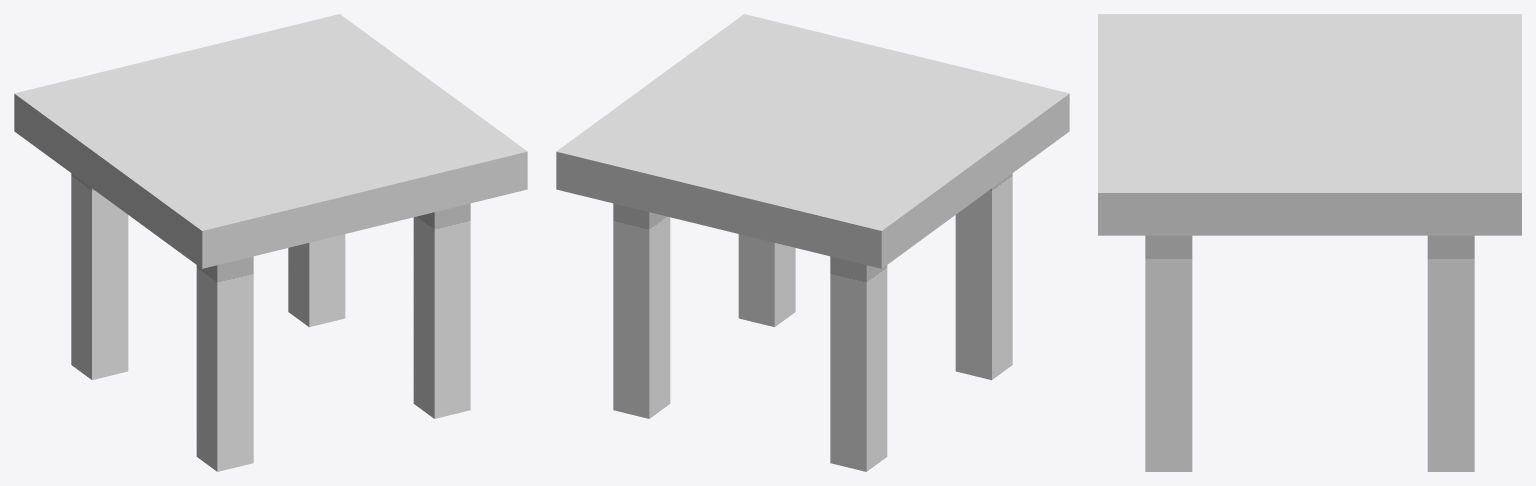
Rendered from WhiteTable.fbx.
3 views of the same model, side by side, from view 1: azimuth 30°, elevation 25°; view 2: azimuth 150°, elevation 25°; view 3: azimuth 270°, elevation 25° (orthographic). The views are drawn at different scales.
Parts seen in each view (by area): view 1: WhiteTable; view 2: WhiteTable; view 3: WhiteTable.
Part boxes in pixels (x1,y1,x2,y2): WhiteTable: (14, 14, 527, 471); WhiteTable: (556, 14, 1069, 471); WhiteTable: (1098, 14, 1521, 471).
Bounding box in the file's own units: 9 × 7 × 9.
1 material, 1 textured.
